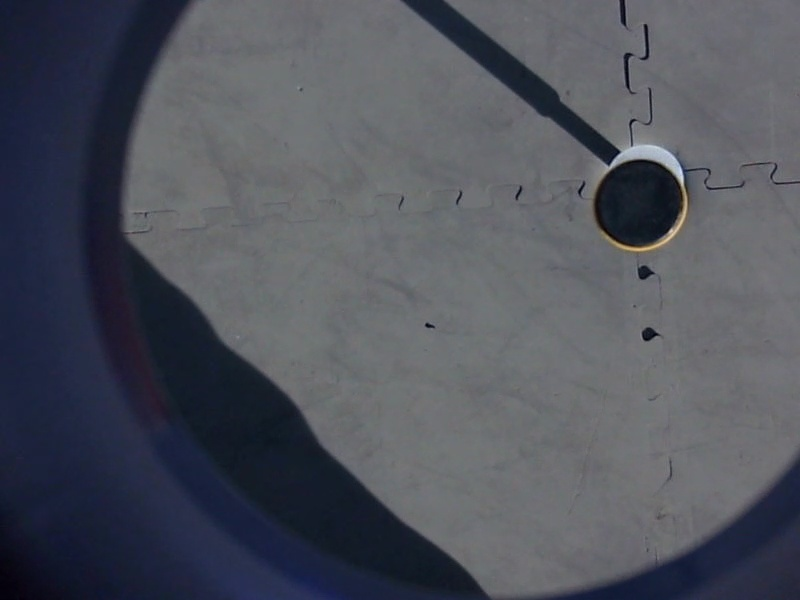tip: (586, 156, 694, 260)
